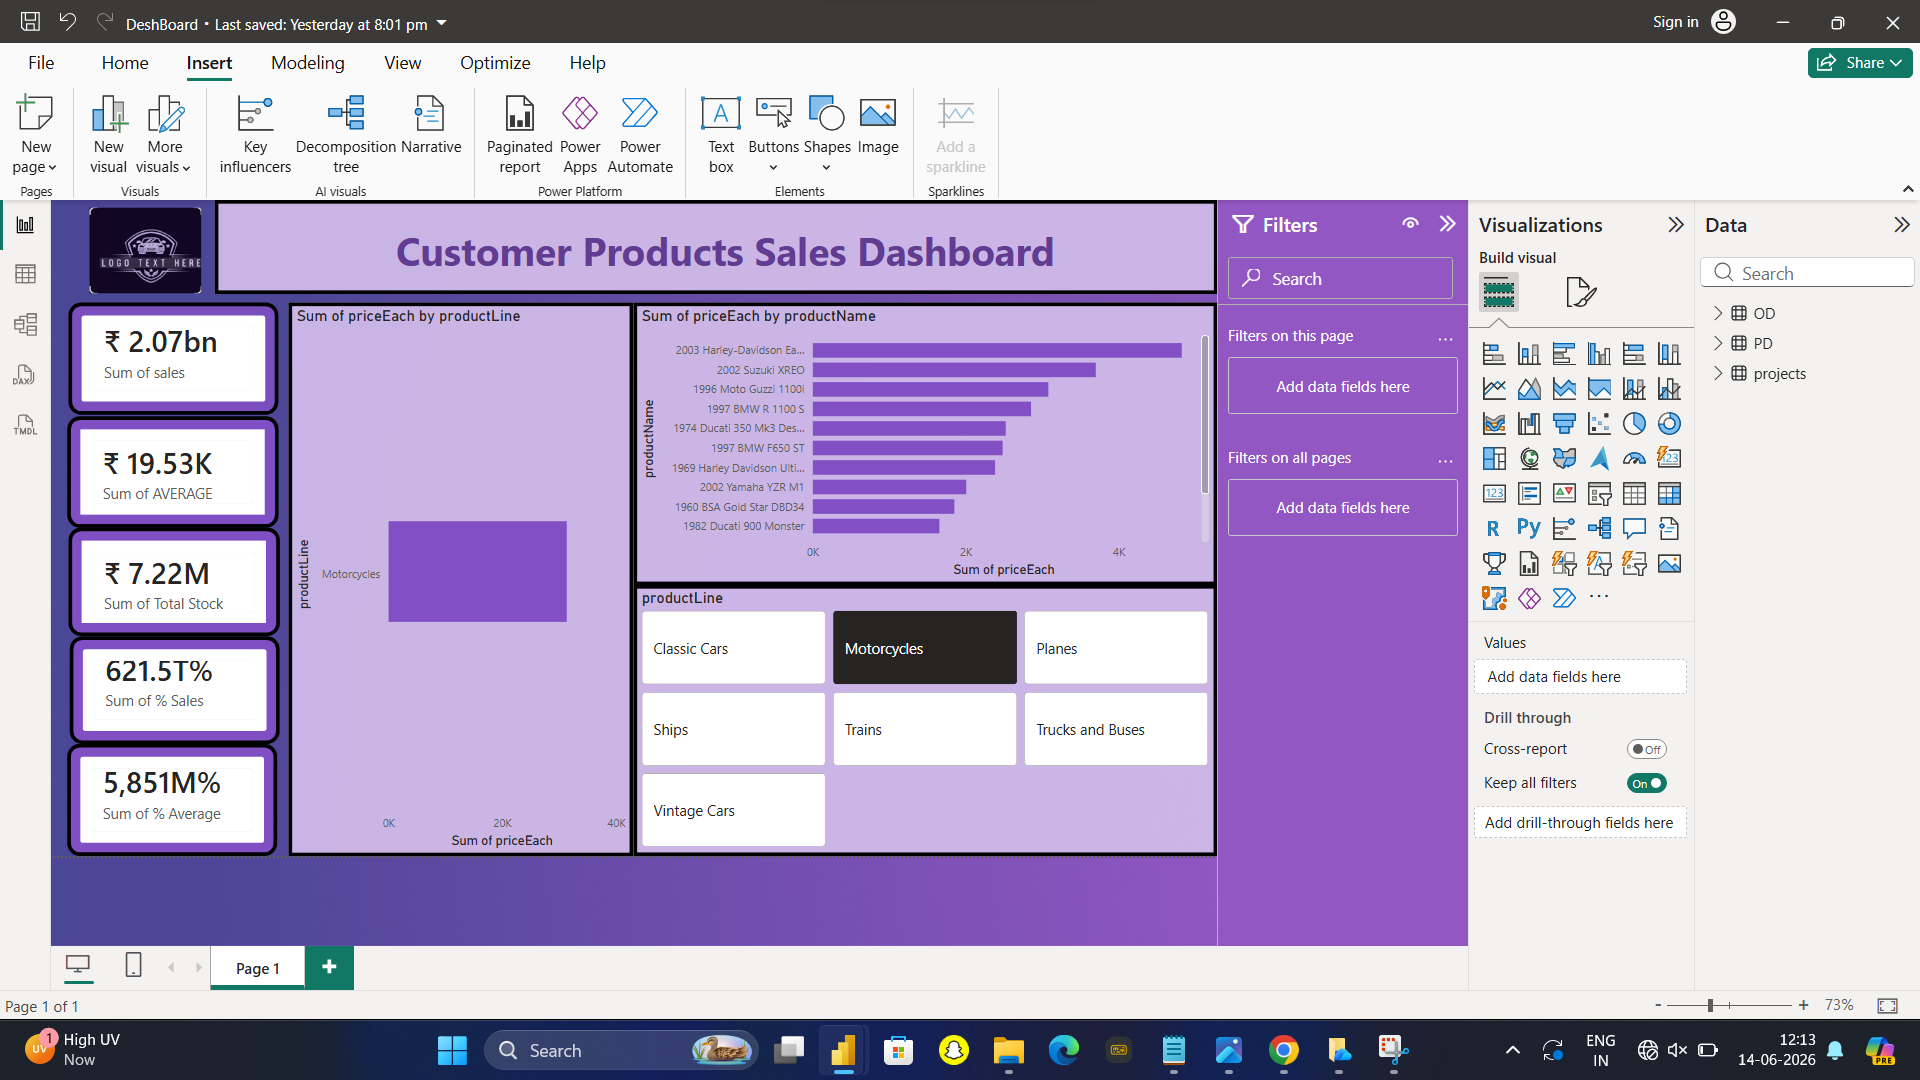

The dashboard page shown, as its layout file describes it:
{"tool":"powerbi","page":{"name":"Page 1","canvas":[1280,720],"ordinal":0},"visuals":[{"type":"barChart","fields":{"Category":["PD.productLine"],"Y":["Sum(OD.priceEach)"]},"box":[260.7,112.5,378.7,607.9],"z":0},{"type":"barChart","fields":{"Category":["PD.productName"],"Y":["Sum(OD.priceEach)"]},"box":[639.5,112.5,640.8,310.1],"z":1000},{"type":"advancedSlicerVisual","fields":{"Values":["PD.productLine"]},"box":[639.5,422.6,640.8,297.8],"z":2000},{"type":"textbox","box":[337.6,0,942.7,112.5],"z":3000},{"type":"cardVisual","fields":{"Data":["Sum(OD.sales)"]},"box":[19.2,112.5,230.5,123.5],"z":4000},{"type":"cardVisual","fields":{"Data":["Sum(OD.AOV)"]},"box":[17.8,237.4,231.9,122.1],"z":5000},{"type":"cardVisual","fields":{"Data":["Sum(PD.Total Stock)"]},"box":[19.2,359.5,231.9,119.4],"z":6000},{"type":"cardVisual","fields":{"Data":["Sum(OD.% Sales)"]},"box":[20.6,478.9,230.5,118],"z":6001},{"type":"cardVisual","fields":{"Data":["Sum(OD.% Average)"]},"box":[17.8,596.9,230.5,123.5],"z":6002}]}

Visuals, with their boxes on the page's 1280x720 design canvas (x1, y1, x2, y2). These are canvas units, not pixel positions in the 1920x1080 screenshot, which may show the page scaled, cropped or inside an application window:
barChart - PD.productLine x Sum(OD.priceEach): 261/112/639/720
barChart - PD.productName x Sum(OD.priceEach): 640/112/1280/423
advancedSlicerVisual - PD.productLine: 640/423/1280/720
textbox: 338/0/1280/112
cardVisual - Sum(OD.sales): 19/112/250/236
cardVisual - Sum(OD.AOV): 18/237/250/360
cardVisual - Sum(PD.Total Stock): 19/360/251/479
cardVisual - Sum(OD.% Sales): 21/479/251/597
cardVisual - Sum(OD.% Average): 18/597/248/720
